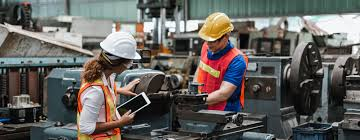Casco de seguridad: (101, 32, 142, 64), (198, 12, 239, 42)
